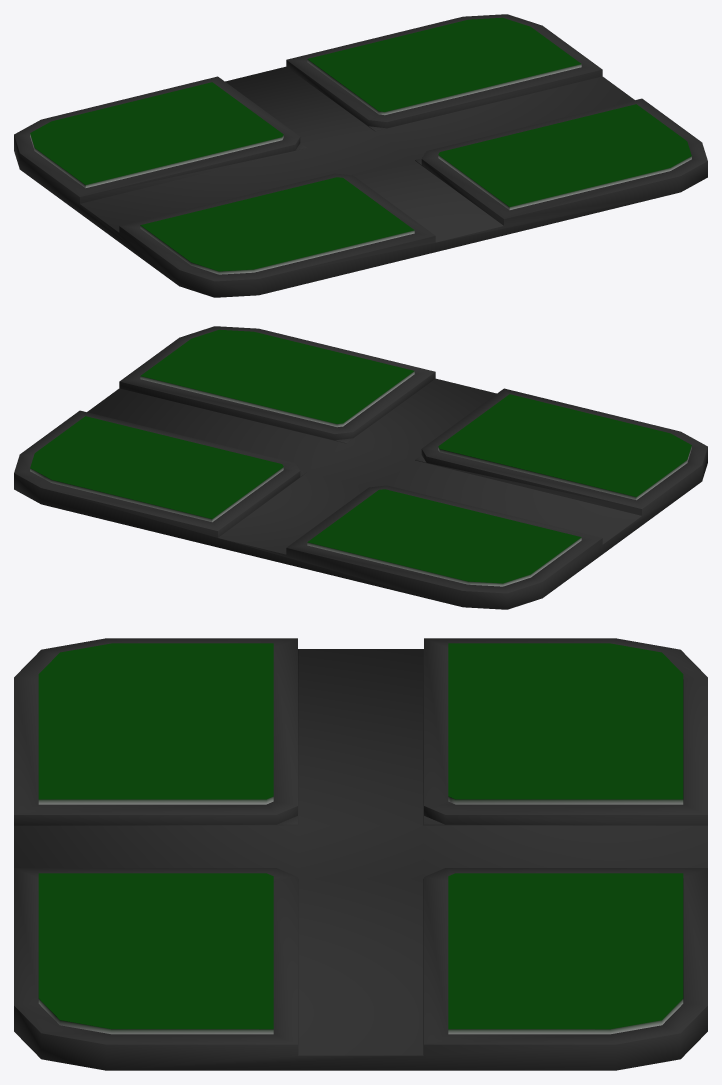
File: M_PlazaMayo.fbx
The picture shows the model from 3 angles, top to bottom: view 1: azimuth 30°, elevation 25°; view 2: azimuth 150°, elevation 25°; view 3: azimuth 270°, elevation 25°; orthographic projection. The views are drawn at different scales.
Visible parts, largest first — view 1: transform25; view 2: transform25; view 3: transform25.
Part boxes in pixels (box(x1,y1,x2,y2)): transform25: box(14, 14, 707, 297); transform25: box(14, 326, 707, 609); transform25: box(14, 638, 707, 1070).
Size of the model in its own units: 28 by 1.01 by 20.2.
